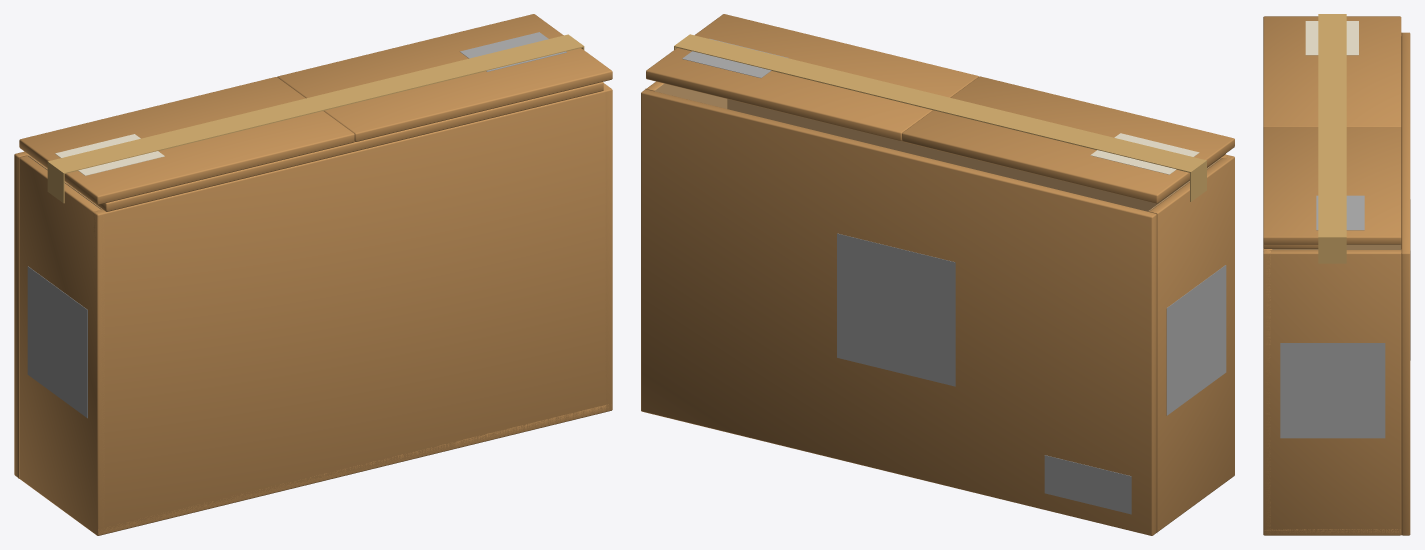
3 renders of one model, left to right at view 1: azimuth 30°, elevation 25°; view 2: azimuth 150°, elevation 25°; view 3: azimuth 270°, elevation 25°, orthographic. The views are drawn at different scales.
Visible parts, largest first — view 1: box_5x3, FlapR, FlapL, Tape, FlapB, Front; view 2: Front, box_5x3, FlapR, FlapL, Tape; view 3: box_5x3, FlapL, FlapR, Tape, Front, FlapB.
Part boxes in pixels (box(x1,y1,x2,y2)): box_5x3: box(18, 83, 612, 535); FlapR: box(19, 77, 354, 204); FlapL: box(277, 14, 612, 141); Tape: box(47, 34, 584, 203); FlapB: box(69, 82, 603, 211); Front: box(14, 151, 99, 477); Front: box(641, 89, 1156, 535); box_5x3: box(645, 81, 1234, 532); FlapR: box(902, 76, 1234, 203); FlapL: box(646, 14, 978, 140); Tape: box(674, 34, 1206, 201); box_5x3: box(1263, 32, 1401, 535); FlapL: box(1263, 127, 1401, 244); FlapR: box(1263, 16, 1401, 127); Tape: box(1318, 14, 1346, 263); Front: box(1401, 32, 1410, 535); FlapB: box(1263, 244, 1318, 248).
Bounding box in the file's own units: 1.31 × 0.8185 × 0.3649.
